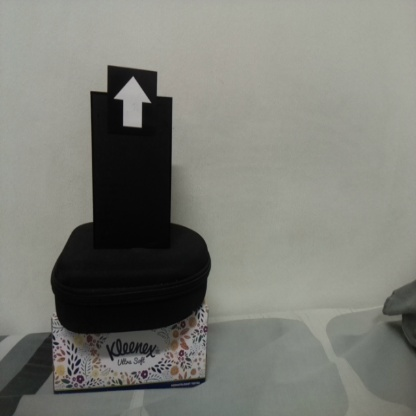id_1: (107, 67, 158, 145)
